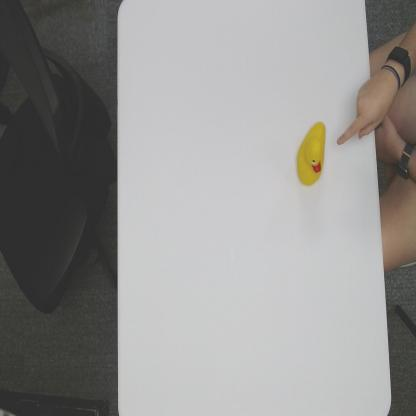Duck: (296, 121, 327, 188)
Hand: (337, 76, 373, 149)
